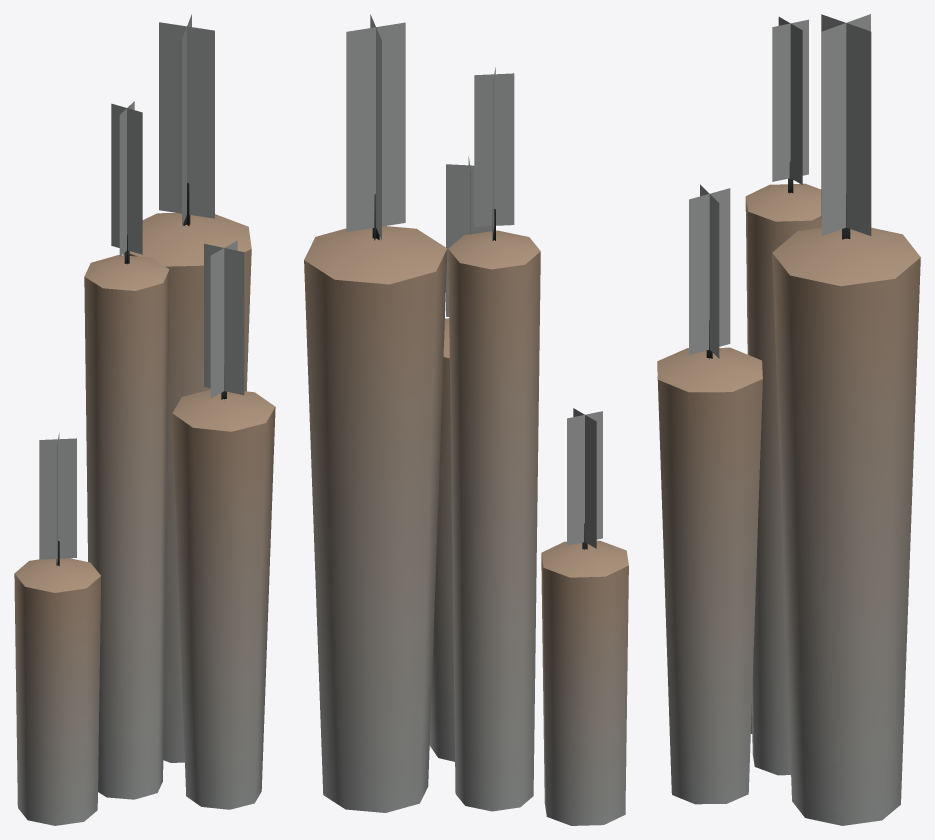
3 views of the same model, side by side, from view 1: azimuth 30°, elevation 25°; view 2: azimuth 150°, elevation 25°; view 3: azimuth 270°, elevation 25° (orthographic). The views are drawn at different scales.
Parts seen in each view (by area): view 1: G:\FFXIV-MapTools\exports\r2f1\bg\ex1\01_roc_r2\fld\r2f1\bgp (×2); view 2: G:\FFXIV-MapTools\exports\r2f1\bg\ex1\01_roc_r2\fld\r2f1\bgp (×2); view 3: G:\FFXIV-MapTools\exports\r2f1\bg\ex1\01_roc_r2\fld\r2f1\bgp (×2).
Boxes of the visible parts, left/top/right/bottom form: G:\FFXIV-MapTools\exports\r2f1\bg\ex1\01_roc_r2\fld\r2f1\bgp (×2): left=14, top=14, right=275, bottom=825; G:\FFXIV-MapTools\exports\r2f1\bg\ex1\01_roc_r2\fld\r2f1\bgp (×2): left=304, top=14, right=628, bottom=825; G:\FFXIV-MapTools\exports\r2f1\bg\ex1\01_roc_r2\fld\r2f1\bgp (×2): left=657, top=14, right=920, bottom=825.
Size of the model in its own units: 0.2167 by 0.5745 by 0.1756.
